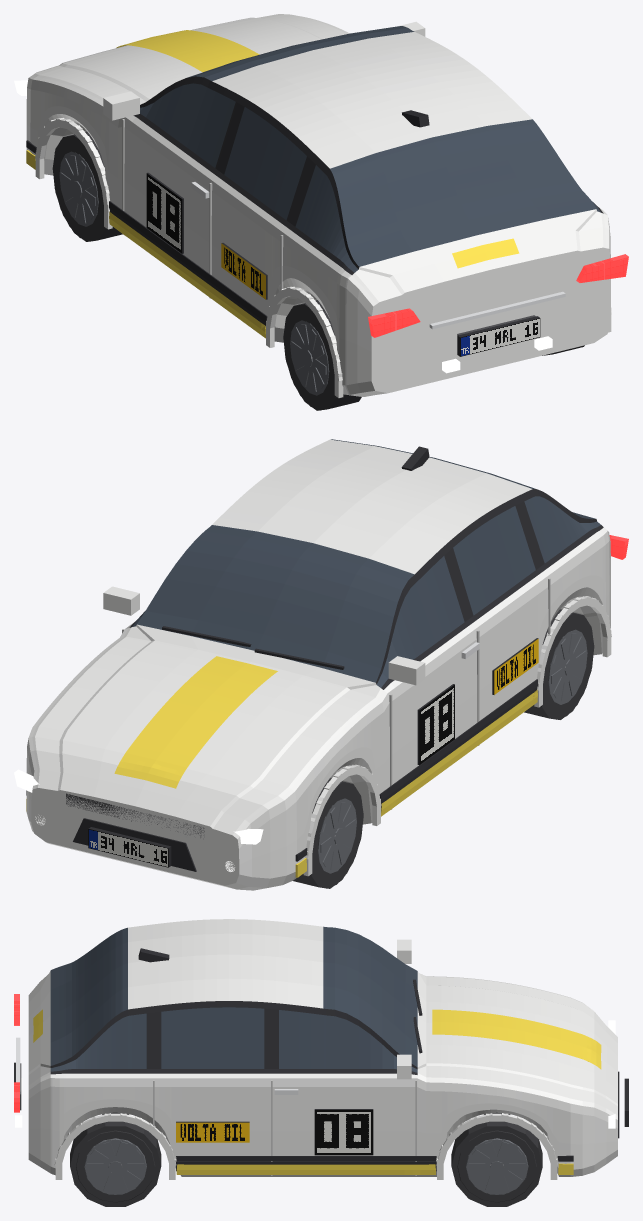
Rendered from mirelle.glb.
The picture shows the model from 3 angles, top to bottom: view 1: azimuth 30°, elevation 25°; view 2: azimuth 150°, elevation 25°; view 3: azimuth 270°, elevation 25°; orthographic projection. The views are drawn at different scales.
Visible parts, largest first — view 1: body.011, livery.011, wheel_RL.011, wheel_FL.011; view 2: body.011, livery.011, wheel_RL.011, wheel_FL.011; view 3: body.011, livery.011, wheel_FR.011, wheel_RR.011.
Part boxes in pixels (box(x1,y1,x2,y2)): body.011: box(14, 14, 628, 397); livery.011: box(26, 30, 519, 338); wheel_RL.011: box(283, 300, 361, 410); wheel_FL.011: box(52, 131, 122, 241); body.011: box(14, 439, 628, 890); livery.011: box(26, 638, 538, 877); wheel_RL.011: box(524, 609, 594, 719); wheel_FL.011: box(293, 778, 363, 888); body.011: box(14, 919, 628, 1179); livery.011: box(33, 1009, 601, 1174); wheel_FR.011: box(451, 1114, 542, 1206); wheel_RR.011: box(70, 1114, 161, 1206).
Size of the model in its own units: 2.03 by 1.54 by 4.18.
Materials: 15 (5 with a texture image).
